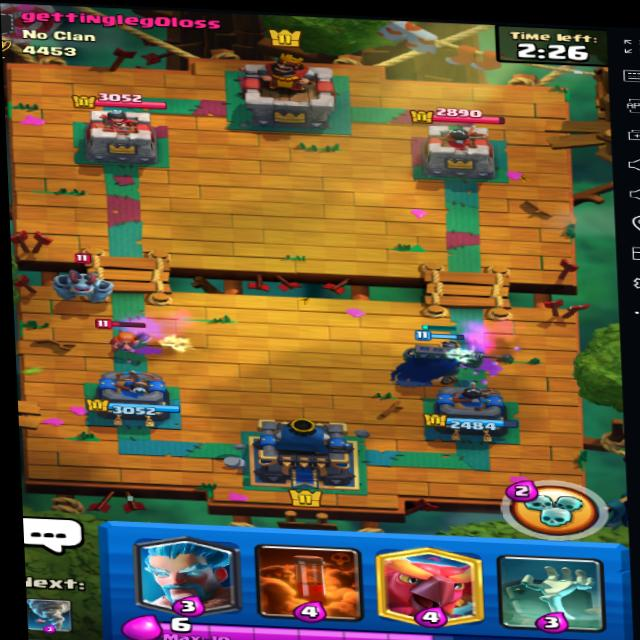mega-minion: (38, 244, 121, 307)
valkyrie: (95, 313, 158, 359)
